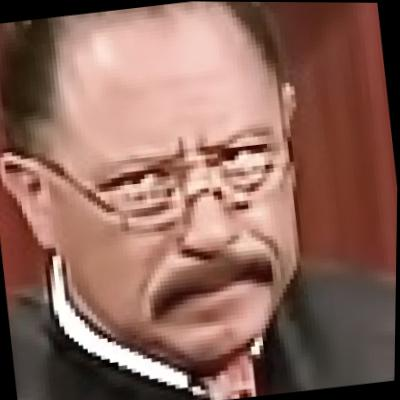angry: (28, 0, 314, 365)
